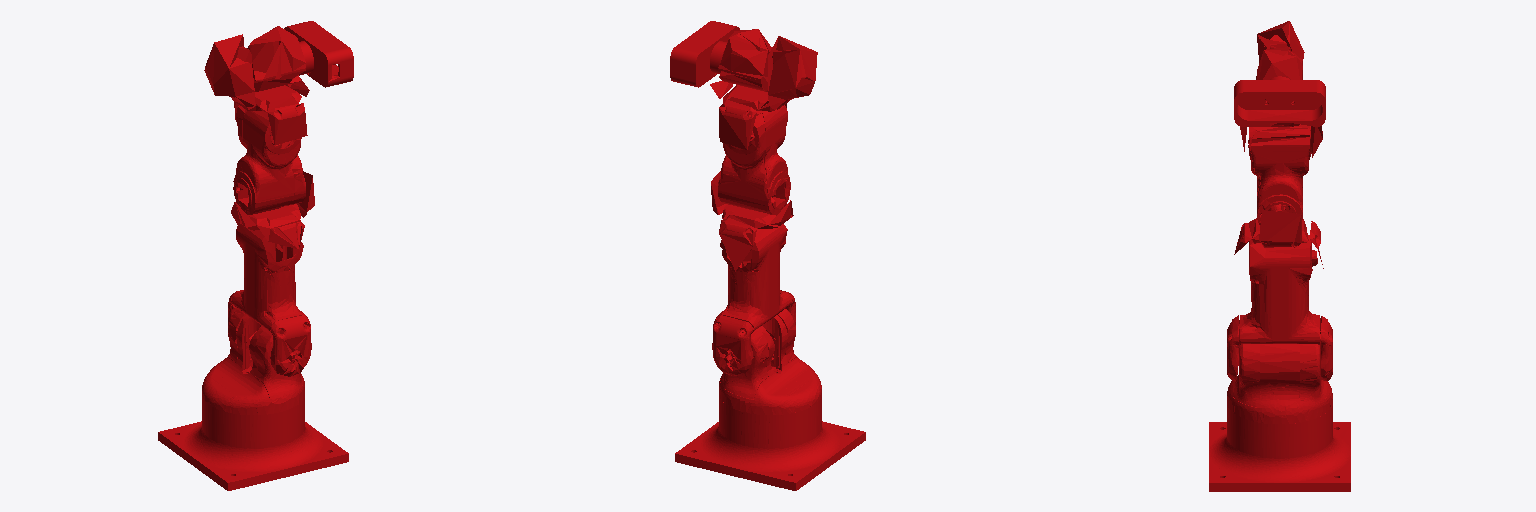
URDF robot description (proton_brazo):
<?xml version="1.0"?>
<!-- Generado por verificacion/generar_urdf.py a partir del CAD del brazo de PROTÓN. -->
<!-- effort y velocity son valores de referencia: ajústalos a los servos reales. -->
<robot name="proton_brazo">
  <material name="rojo"><color rgba="0.78 0.09 0.11 1"/></material>
  <link name="base_link">
    <visual><geometry><mesh filename="package://proton_brazo_description/meshes/visual/base_link.stl"/></geometry><material name="rojo"/></visual>
    <collision><geometry><mesh filename="package://proton_brazo_description/meshes/collision/base_link.stl"/></geometry></collision>
  </link>
  <link name="link1">
    <visual><geometry><mesh filename="package://proton_brazo_description/meshes/visual/link1.stl"/></geometry><material name="rojo"/></visual>
    <collision><geometry><mesh filename="package://proton_brazo_description/meshes/collision/link1.stl"/></geometry></collision>
  </link>
  <joint name="j1" type="revolute">
    <parent link="base_link"/><child link="link1"/>
    <origin xyz="0.00000 0.00000 0.06820" rpy="0 0 0"/>
    <axis xyz="0 0 1"/>
    <limit lower="-1.5708" upper="1.5708" effort="2.0" velocity="3.0"/>
  </joint>
  <link name="link2">
    <visual><geometry><mesh filename="package://proton_brazo_description/meshes/visual/link2.stl"/></geometry><material name="rojo"/></visual>
    <collision><geometry><mesh filename="package://proton_brazo_description/meshes/collision/link2.stl"/></geometry></collision>
  </link>
  <joint name="j2" type="revolute">
    <parent link="link1"/><child link="link2"/>
    <origin xyz="0.02000 0.00000 0.05370" rpy="0 0 0"/>
    <axis xyz="0 1 0"/>
    <limit lower="-1.5708" upper="1.5708" effort="2.0" velocity="3.0"/>
  </joint>
  <link name="link3">
    <visual><geometry><mesh filename="package://proton_brazo_description/meshes/visual/link3.stl"/></geometry><material name="rojo"/></visual>
    <collision><geometry><mesh filename="package://proton_brazo_description/meshes/collision/link3.stl"/></geometry></collision>
  </link>
  <joint name="j3" type="revolute">
    <parent link="link2"/><child link="link3"/>
    <origin xyz="0.00000 0.00000 0.11650" rpy="0 0 0"/>
    <axis xyz="0 1 0"/>
    <limit lower="-1.5708" upper="1.5708" effort="2.0" velocity="3.0"/>
  </joint>
  <link name="link4">
    <visual><geometry><mesh filename="package://proton_brazo_description/meshes/visual/link4.stl"/></geometry><material name="rojo"/></visual>
    <collision><geometry><mesh filename="package://proton_brazo_description/meshes/collision/link4.stl"/></geometry></collision>
  </link>
  <joint name="j4" type="revolute">
    <parent link="link3"/><child link="link4"/>
    <origin xyz="0.00000 0.00000 0.06220" rpy="0 0 0"/>
    <axis xyz="1 0 0"/>
    <limit lower="-1.5708" upper="1.5708" effort="2.0" velocity="3.0"/>
  </joint>
  <link name="link5">
    <visual><geometry><mesh filename="package://proton_brazo_description/meshes/visual/link5.stl"/></geometry><material name="rojo"/></visual>
    <collision><geometry><mesh filename="package://proton_brazo_description/meshes/collision/link5.stl"/></geometry></collision>
  </link>
  <joint name="j5" type="revolute">
    <parent link="link4"/><child link="link5"/>
    <origin xyz="0.00000 0.00000 0.07730" rpy="0 0 0"/>
    <axis xyz="0 1 0"/>
    <limit lower="-1.5708" upper="1.5708" effort="2.0" velocity="3.0"/>
  </joint>
  <link name="link6">
    <visual><geometry><mesh filename="package://proton_brazo_description/meshes/visual/link6.stl"/></geometry><material name="rojo"/></visual>
    <collision><geometry><mesh filename="package://proton_brazo_description/meshes/collision/link6.stl"/></geometry></collision>
  </link>
  <joint name="j6" type="revolute">
    <parent link="link5"/><child link="link6"/>
    <origin xyz="0.00000 0.00000 0.06730" rpy="0 0 0"/>
    <axis xyz="1 0 0"/>
    <limit lower="-1.5708" upper="1.5708" effort="2.0" velocity="3.0"/>
  </joint>
  <link name="camera_link"/>
  <joint name="camera_joint" type="fixed">
    <parent link="link6"/><child link="camera_link"/>
    <origin xyz="0.07650 0.00000 -0.00020" rpy="0 0 0"/>
  </joint>
</robot>

--- Render facts (derived) ---
The picture shows the robot from 3 angles, left to right: view 1: azimuth 30°, elevation 25°; view 2: azimuth 150°, elevation 25°; view 3: azimuth 270°, elevation 25°; orthographic projection.
Robot: proton_brazo — 8 links, 7 joints (6 revolute, 1 fixed); root link base_link; default pose: all joints at 0.
Visible links, largest first — view 1: base_link, link2, link1, link4, link6, link5, link3; view 2: base_link, link2, link1, link4, link6, link5, link3; view 3: base_link, link2, link1, link6, link4, link3, link5.
Link boxes in pixels (<box>): base_link: <box>158,397,348,490</box>; link2: <box>228,223,311,376</box>; link1: <box>202,308,311,414</box>; link4: <box>233,105,305,214</box>; link6: <box>247,21,353,91</box>; link5: <box>204,34,309,144</box>; link3: <box>231,171,314,248</box>; base_link: <box>675,397,865,490</box>; link2: <box>712,224,795,375</box>; link1: <box>712,309,821,414</box>; link4: <box>718,105,790,215</box>; link6: <box>670,21,771,91</box>; link5: <box>710,36,817,149</box>; link3: <box>711,171,793,271</box>; base_link: <box>1209,406,1350,491</box>; link2: <box>1227,235,1332,381</box>; link1: <box>1227,341,1332,423</box>; link6: <box>1234,47,1325,126</box>; link4: <box>1248,124,1311,224</box>; link3: <box>1234,210,1323,268</box>; link5: <box>1240,21,1322,157</box>.
Bounding box of the posed robot: 0.1715 × 0.15 × 0.4963 m (x, y, z).
Meshes: 7 distinct files referenced, 7 mesh visuals loaded (7 binary STL).
